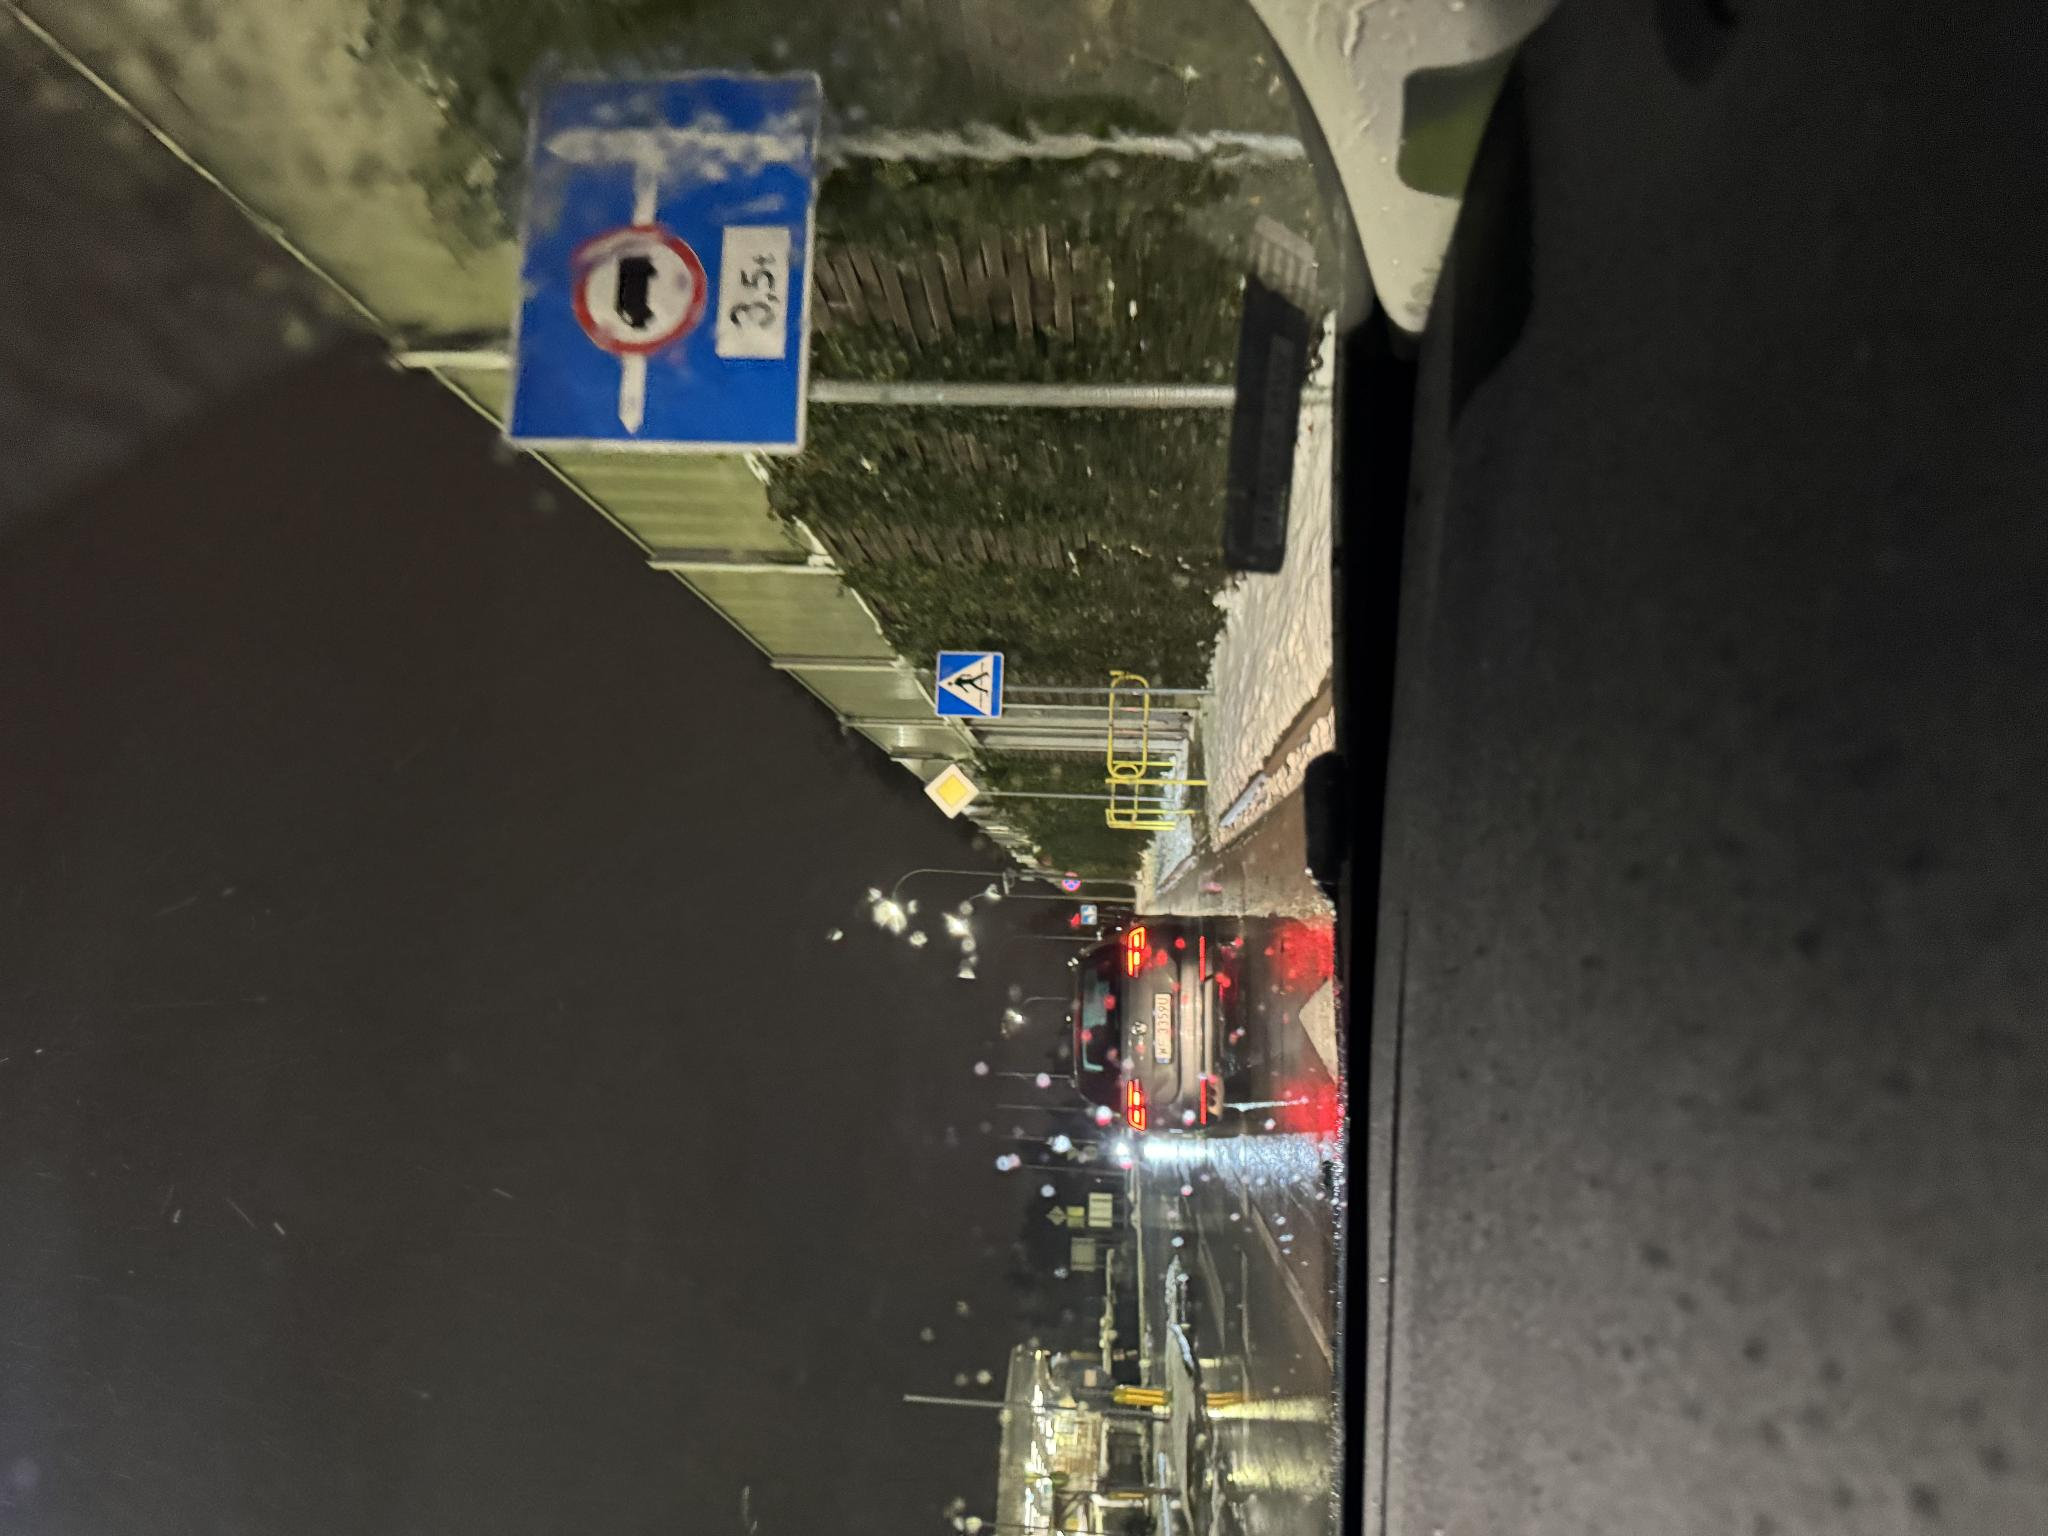information: (819, 934, 887, 1004), (716, 923, 771, 978)
other: (1087, 507, 1466, 821), (611, 1081, 631, 1097)
prohibitory: (645, 1062, 655, 1081), (660, 1063, 664, 1078)
